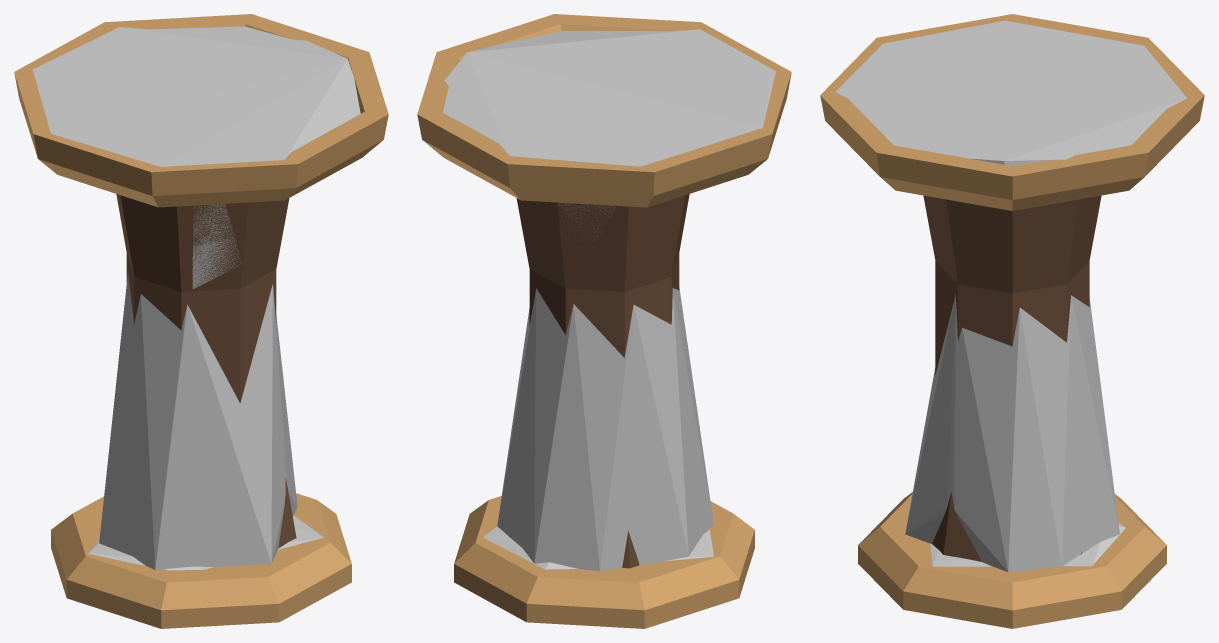
File: SM_Prop_Viewing_Scope_01.fbx
3 renders of one model, left to right at view 1: azimuth 30°, elevation 25°; view 2: azimuth 150°, elevation 25°; view 3: azimuth 270°, elevation 25°, orthographic.
Parts seen in each view (by area): view 1: SM_Prop_Viewing_Scope_01_ConvexHulls, SM_Prop_Viewing_Scope_01; view 2: SM_Prop_Viewing_Scope_01_ConvexHulls, SM_Prop_Viewing_Scope_01; view 3: SM_Prop_Viewing_Scope_01_ConvexHulls, SM_Prop_Viewing_Scope_01.
Boxes of the visible parts, <box> form: SM_Prop_Viewing_Scope_01_ConvexHulls: <box>32,26,360,570</box>; SM_Prop_Viewing_Scope_01: <box>14,14,388,628</box>; SM_Prop_Viewing_Scope_01_ConvexHulls: <box>442,29,775,571</box>; SM_Prop_Viewing_Scope_01: <box>417,14,791,628</box>; SM_Prop_Viewing_Scope_01_ConvexHulls: <box>835,20,1186,572</box>; SM_Prop_Viewing_Scope_01: <box>820,14,1204,628</box>.
Bounding box in the file's own units: 51.27 × 51.27 × 69.32.
2 materials, 1 textured.
